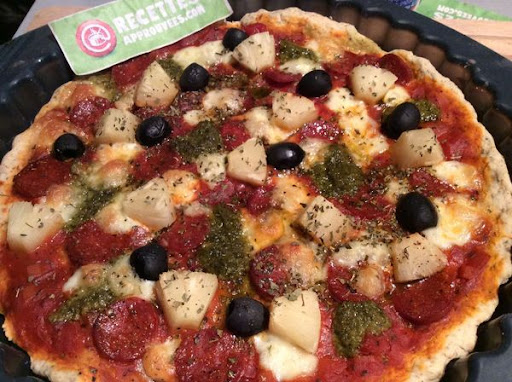Olives: (223, 295, 264, 332), (383, 99, 422, 135), (398, 192, 434, 230), (291, 66, 333, 97), (131, 245, 163, 274), (264, 142, 302, 166), (138, 114, 167, 143), (218, 26, 248, 50), (50, 134, 80, 157), (181, 60, 205, 88)
Pepperoni: (178, 328, 253, 382), (94, 296, 158, 356), (248, 243, 330, 288), (11, 155, 83, 195), (393, 276, 455, 321), (66, 219, 127, 264), (162, 213, 212, 263), (65, 94, 116, 139), (300, 121, 346, 141)
Pineapple: (160, 270, 211, 330), (271, 291, 321, 347), (7, 201, 56, 252), (302, 195, 352, 240), (130, 178, 171, 227), (258, 335, 311, 372), (390, 239, 443, 274), (350, 63, 398, 101), (228, 137, 267, 183), (135, 63, 172, 106), (236, 33, 275, 68), (100, 104, 134, 143), (401, 130, 440, 163)
Pizza: (2, 12, 512, 382)
